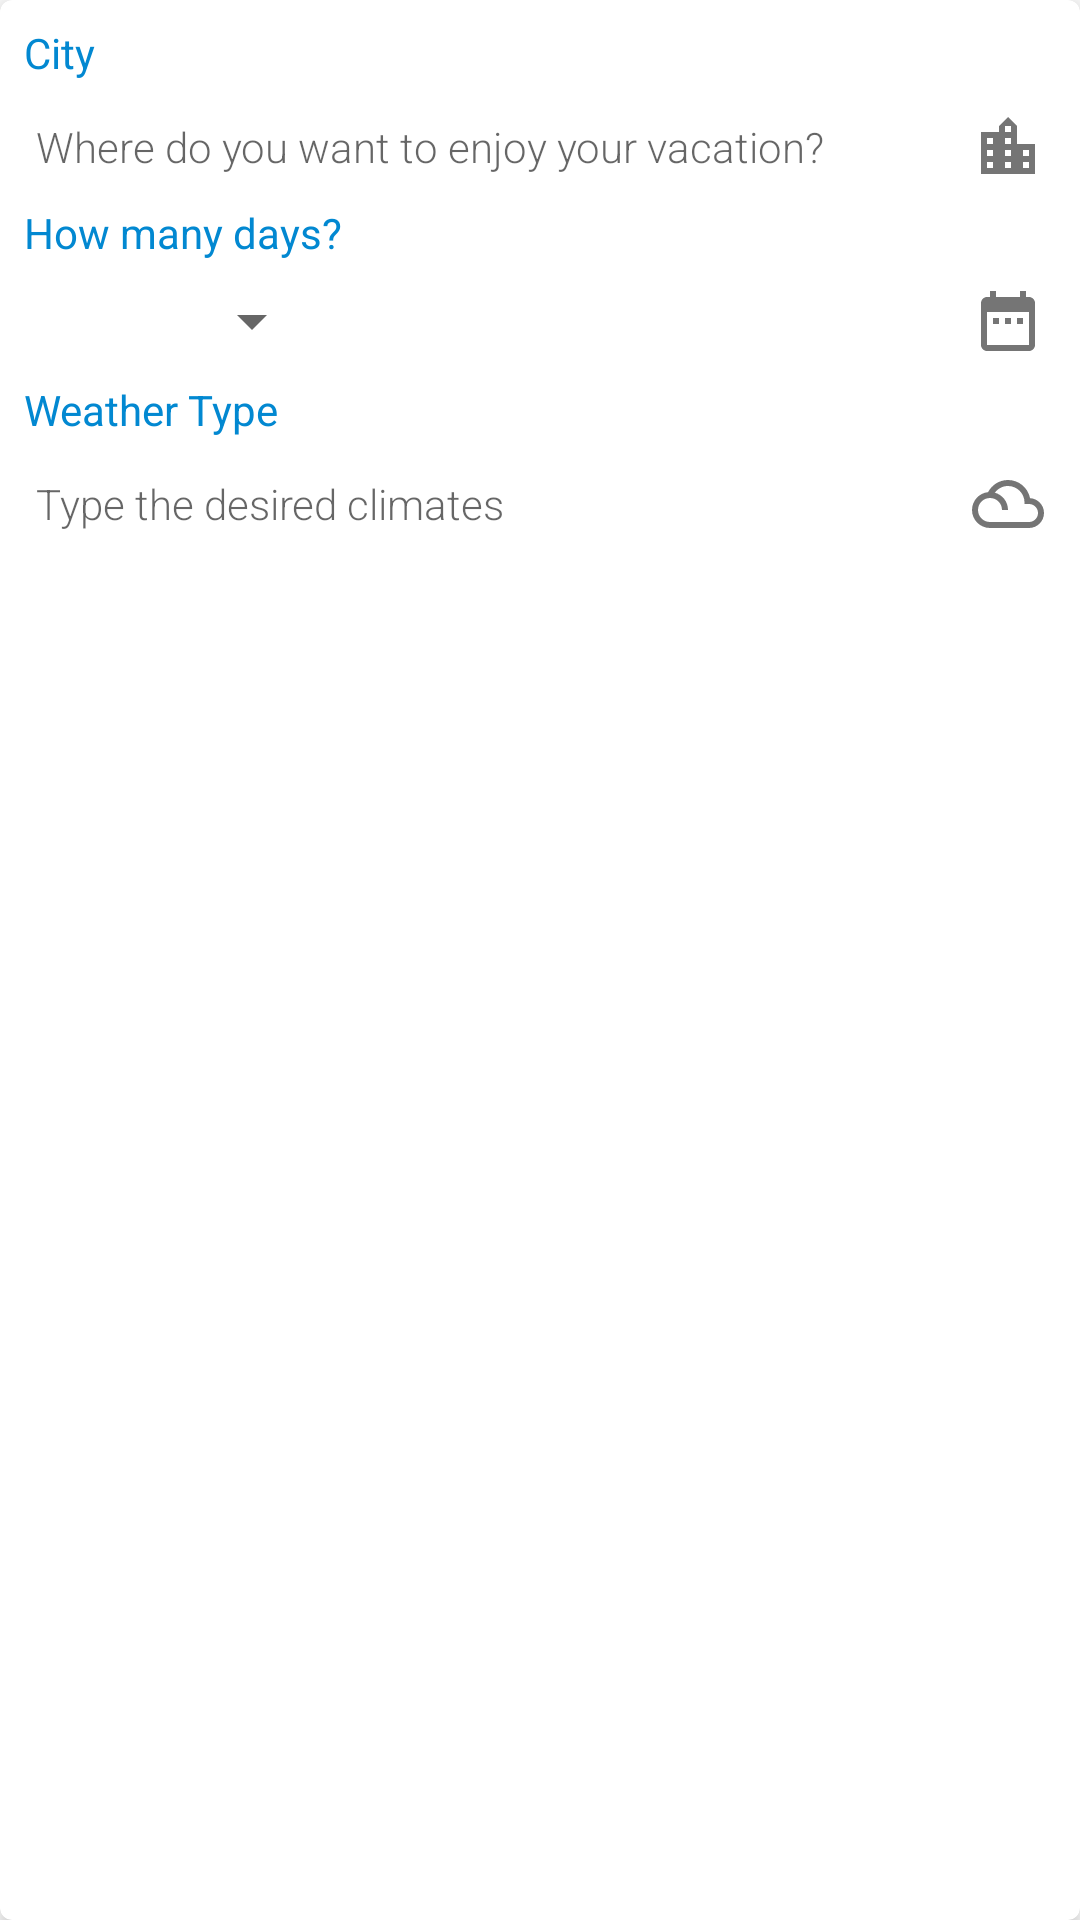

Named icons in this screenshot (1080 x 1920) and their bounding boxes, (x1, y1, x2, y2):
date range: (981, 291, 1035, 351)
